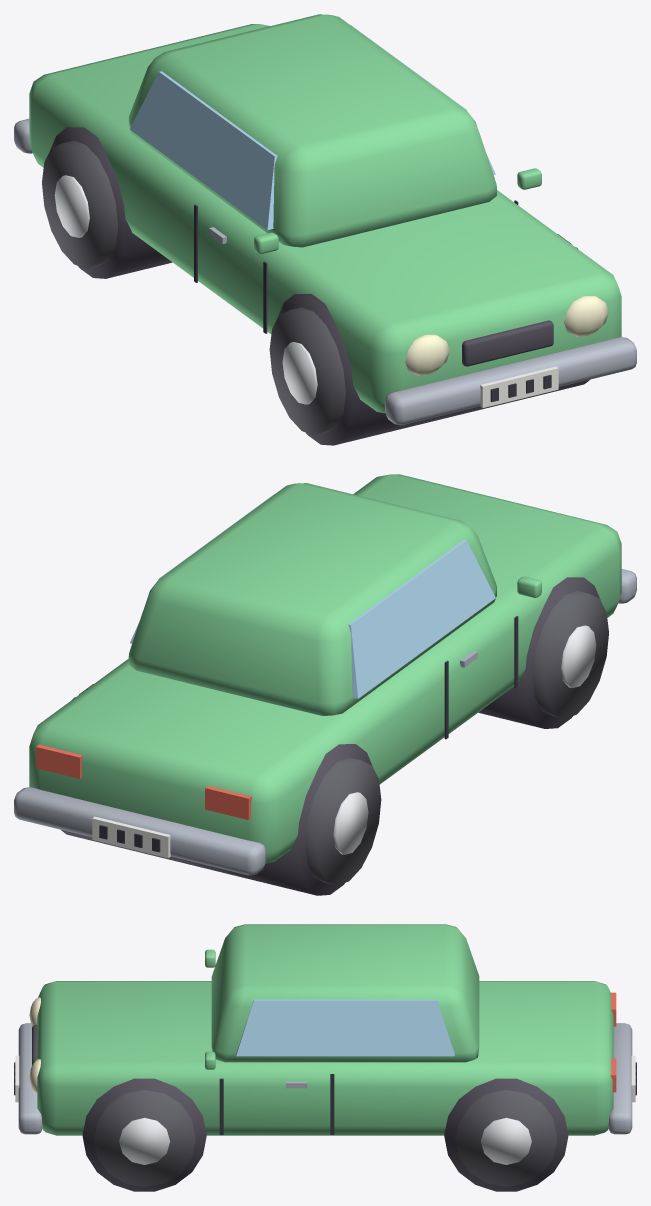
The model's file is Car_Kereta.fbx.
3 renders of one model, top to bottom at view 1: azimuth 30°, elevation 25°; view 2: azimuth 150°, elevation 25°; view 3: azimuth 270°, elevation 25°, orthographic. The views are drawn at different scales.
Visible parts, largest first — view 1: Body, Wheel_FL, Wheel_RL; view 2: Body, Wheel_RL, Wheel_FL; view 3: Body, Wheel_FR, Wheel_RR.
Boxes of the visible parts, x1=… form: Body: x1=14, y1=14, x2=636, y2=445; Wheel_FL: x1=269, y1=307, x2=345, y2=435; Wheel_RL: x1=42, y1=140, x2=118, y2=268; Body: x1=14, y1=474, x2=636, y2=895; Wheel_RL: x1=305, y1=757, x2=381, y2=885; Wheel_FL: x1=532, y1=591, x2=608, y2=718; Body: x1=14, y1=924, x2=636, y2=1191; Wheel_FR: x1=93, y1=1090, x2=195, y2=1186; Wheel_RR: x1=455, y1=1090, x2=557, y2=1186.
Size of the model in its own units: 1.94 by 1.55 by 4.65.
